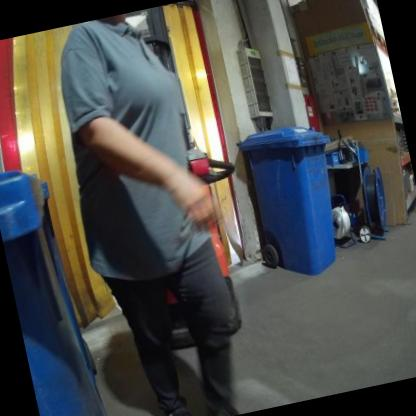pallet: (369, 24, 386, 49)
pallet_truck: (65, 0, 268, 359)
